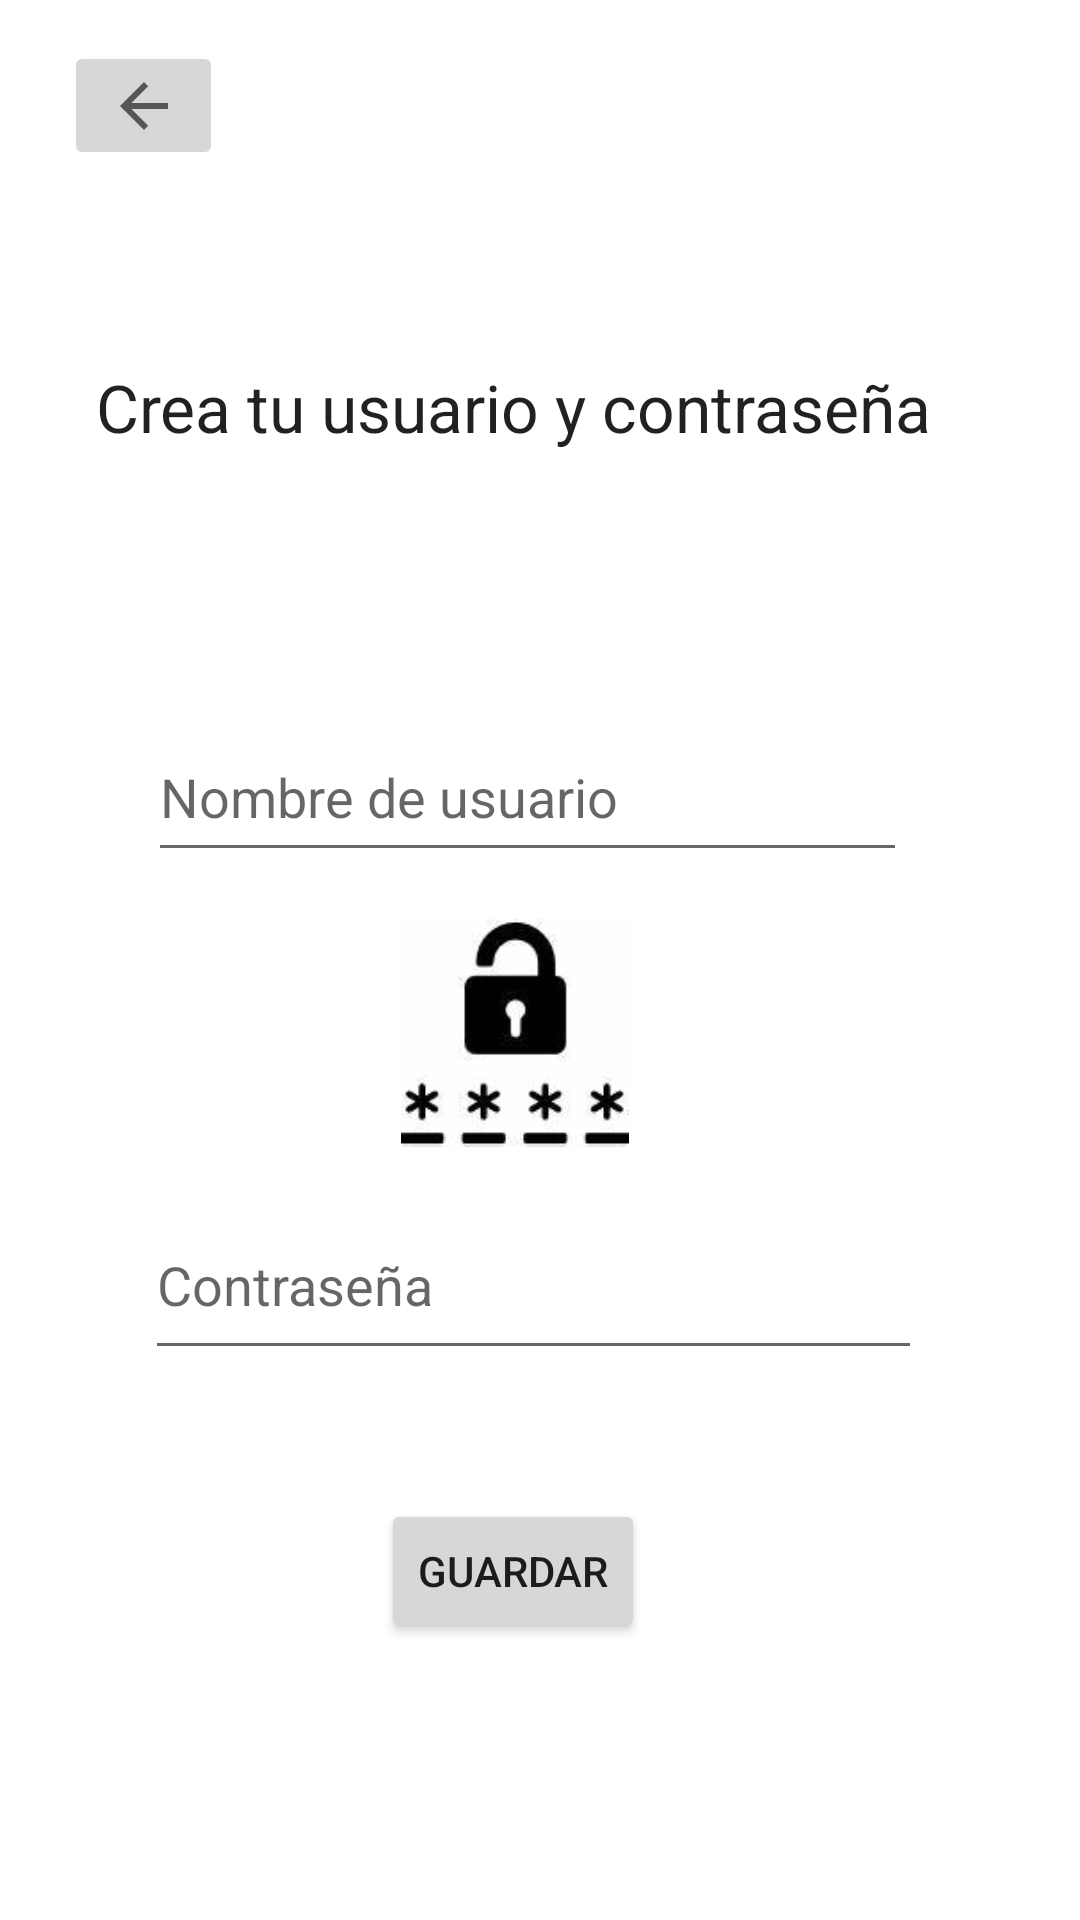

Icon click points for this 1080*1920 phone screenshot, format (x,y):
contrasena: (515,1034)
